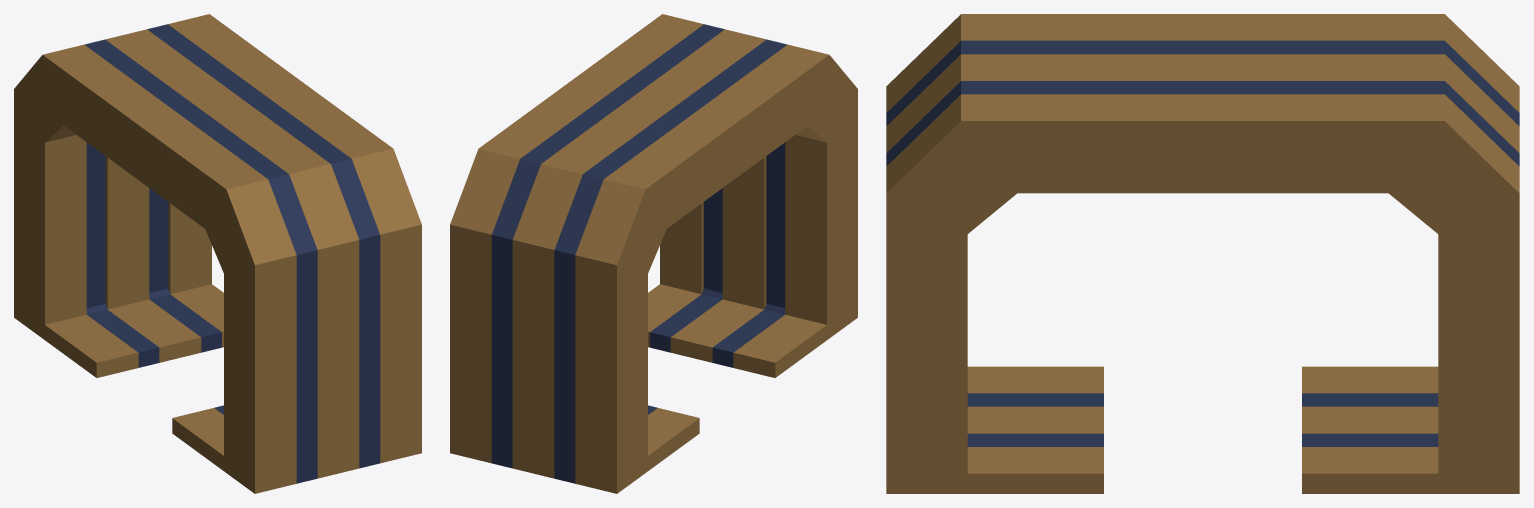
File: TunnelModel02.fbx
The picture shows the model from 3 angles, left to right: view 1: azimuth 30°, elevation 25°; view 2: azimuth 150°, elevation 25°; view 3: azimuth 270°, elevation 25°; orthographic projection. The views are drawn at different scales.
Parts seen in each view (by area): view 1: TunnelModel02; view 2: TunnelModel02; view 3: TunnelModel02.
Part boxes in pixels (bbox=[...]): TunnelModel02: bbox=[14, 14, 421, 493]; TunnelModel02: bbox=[450, 14, 857, 493]; TunnelModel02: bbox=[886, 14, 1519, 493].
Bounding box in the file's own units: 634 × 1029 × 1584.
